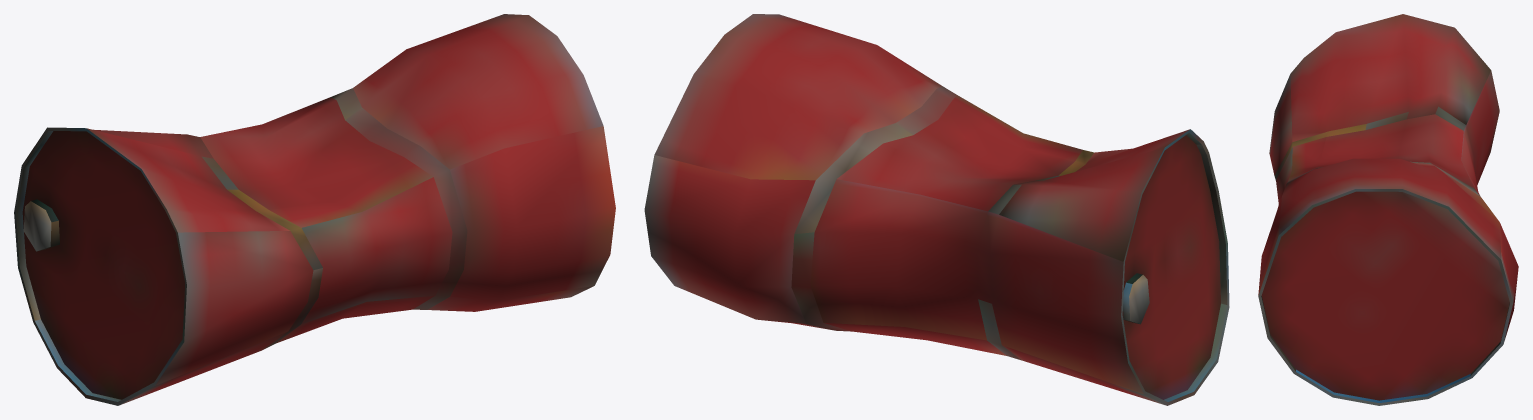
File: junk_04-v2.glb
3 views of the same model, side by side, from view 1: azimuth 30°, elevation 25°; view 2: azimuth 150°, elevation 25°; view 3: azimuth 270°, elevation 25° (orthographic). The views are drawn at different scales.
Visible parts, largest first — view 1: junk_04; view 2: junk_04; view 3: junk_04.
Part boxes in pixels (bbox=[...]): junk_04: bbox=[14, 14, 615, 405]; junk_04: bbox=[644, 14, 1229, 405]; junk_04: bbox=[1258, 14, 1518, 405].
Size of the model in its own units: 1.76 by 0.9318 by 1.01.
Materials: 1 (1 with a texture image).
